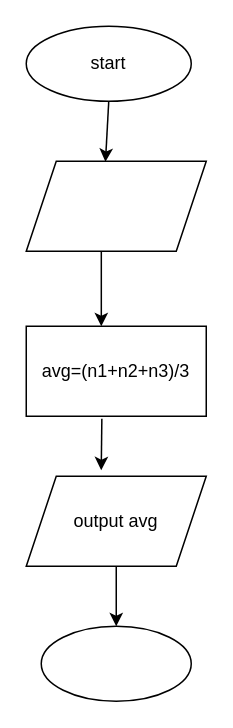
The diagram is 233 pixels wide and 728 high, and some of its shapes have lost their labels. The shapes that lost their labels are listed below. From the top down, each one's centre as x and y in pixels, then its label:
At [115,205]: "input n1,n2,n3".
At [115,663]: "stop".
